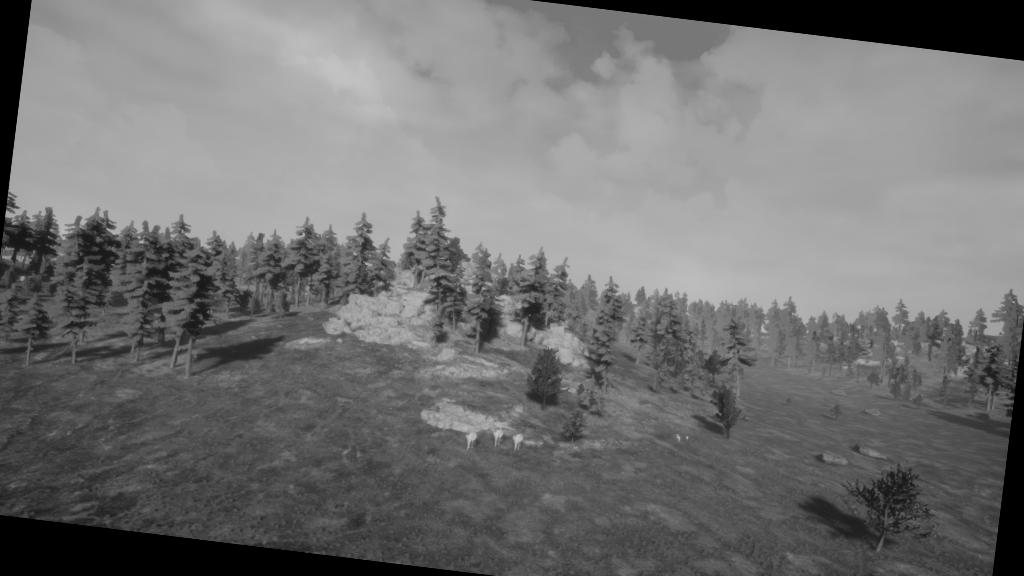elephant: (456, 427, 482, 456), (508, 430, 530, 455), (488, 426, 510, 450)
